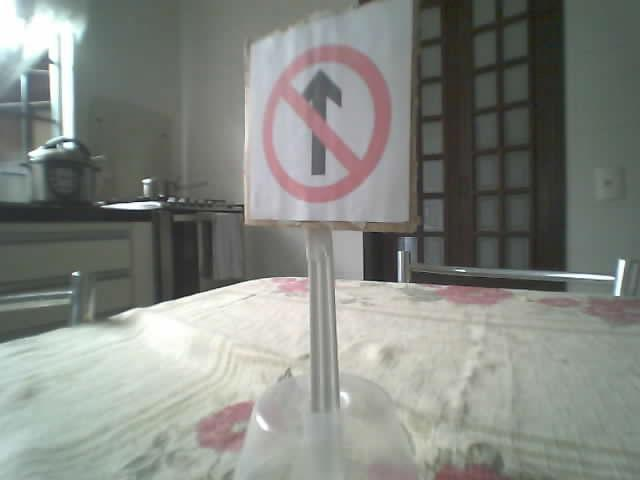R-3_sentido-proibido: (260, 43, 391, 203)
